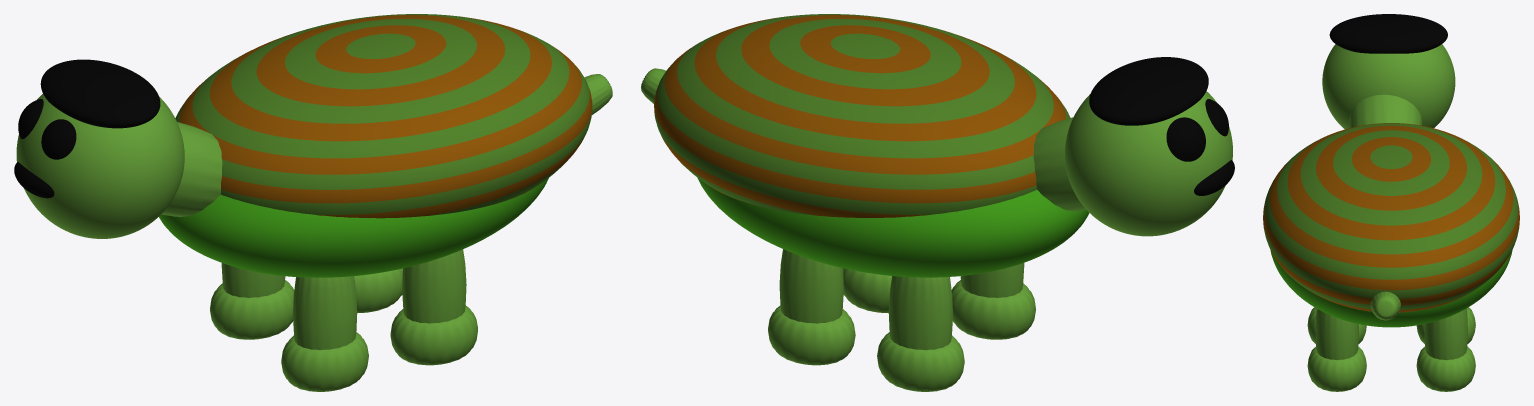
The model's file is G1_turtleModelTanzeela.fbx.
3 renders of one model, left to right at view 1: azimuth 30°, elevation 25°; view 2: azimuth 150°, elevation 25°; view 3: azimuth 270°, elevation 25°, orthographic. The views are drawn at different scales.
Visible parts, largest first — view 1: pSphere2, pSphere1, pSphere3, pSphere7, pCylinder2, pCylinder3, pCylinder8, pCylinder9, pCylinder10, pCylinder1, pCylinder11, pCylinder4 (+4 smaller); view 2: pSphere2, pSphere1, pSphere3, pSphere7, pCylinder4, pCylinder5, pCylinder10, pCylinder11, pCylinder8, pCylinder1, pCylinder9, pCylinder2 (+3 smaller); view 3: pSphere2, pSphere3, pSphere7, pSphere1, pCylinder9, pCylinder11, pCylinder1, pCylinder5, pCylinder3, pCylinder6, pCylinder10, pCylinder8.
Boxes of the visible parts, x1,y1,x2,y2 form: pSphere2: [175, 14, 592, 218]; pSphere1: [159, 178, 548, 277]; pSphere3: [16, 94, 184, 238]; pSphere7: [40, 59, 160, 128]; pCylinder2: [293, 276, 357, 349]; pCylinder3: [402, 249, 466, 323]; pCylinder8: [281, 332, 368, 391]; pCylinder9: [390, 305, 477, 365]; pCylinder10: [210, 280, 294, 339]; pCylinder1: [161, 122, 222, 216]; pCylinder11: [354, 268, 402, 312]; pCylinder4: [221, 263, 285, 297]; pSphere2: [654, 14, 1070, 217]; pSphere1: [697, 177, 1089, 277]; pSphere3: [1065, 91, 1232, 236]; pSphere7: [1089, 57, 1208, 125]; pCylinder4: [888, 276, 952, 350]; pCylinder5: [779, 249, 843, 323]; pCylinder10: [877, 332, 964, 391]; pCylinder11: [768, 306, 855, 365]; pCylinder8: [951, 280, 1035, 339]; pCylinder1: [1033, 117, 1086, 211]; pCylinder9: [843, 268, 891, 312]; pCylinder2: [960, 263, 1024, 297]; pSphere2: [1263, 123, 1519, 312]; pSphere3: [1322, 44, 1455, 129]; pSphere7: [1329, 14, 1447, 53]; pSphere1: [1270, 250, 1512, 327]; pCylinder9: [1307, 346, 1366, 391]; pCylinder11: [1416, 346, 1475, 391]; pCylinder1: [1349, 94, 1421, 127]; pCylinder5: [1424, 308, 1467, 360]; pCylinder3: [1315, 309, 1358, 360]; pCylinder6: [1370, 291, 1400, 320]; pCylinder10: [1416, 307, 1475, 343]; pCylinder8: [1307, 307, 1366, 343].
Bounding box in the file's own units: 9.5 × 5.05 × 4.73.
